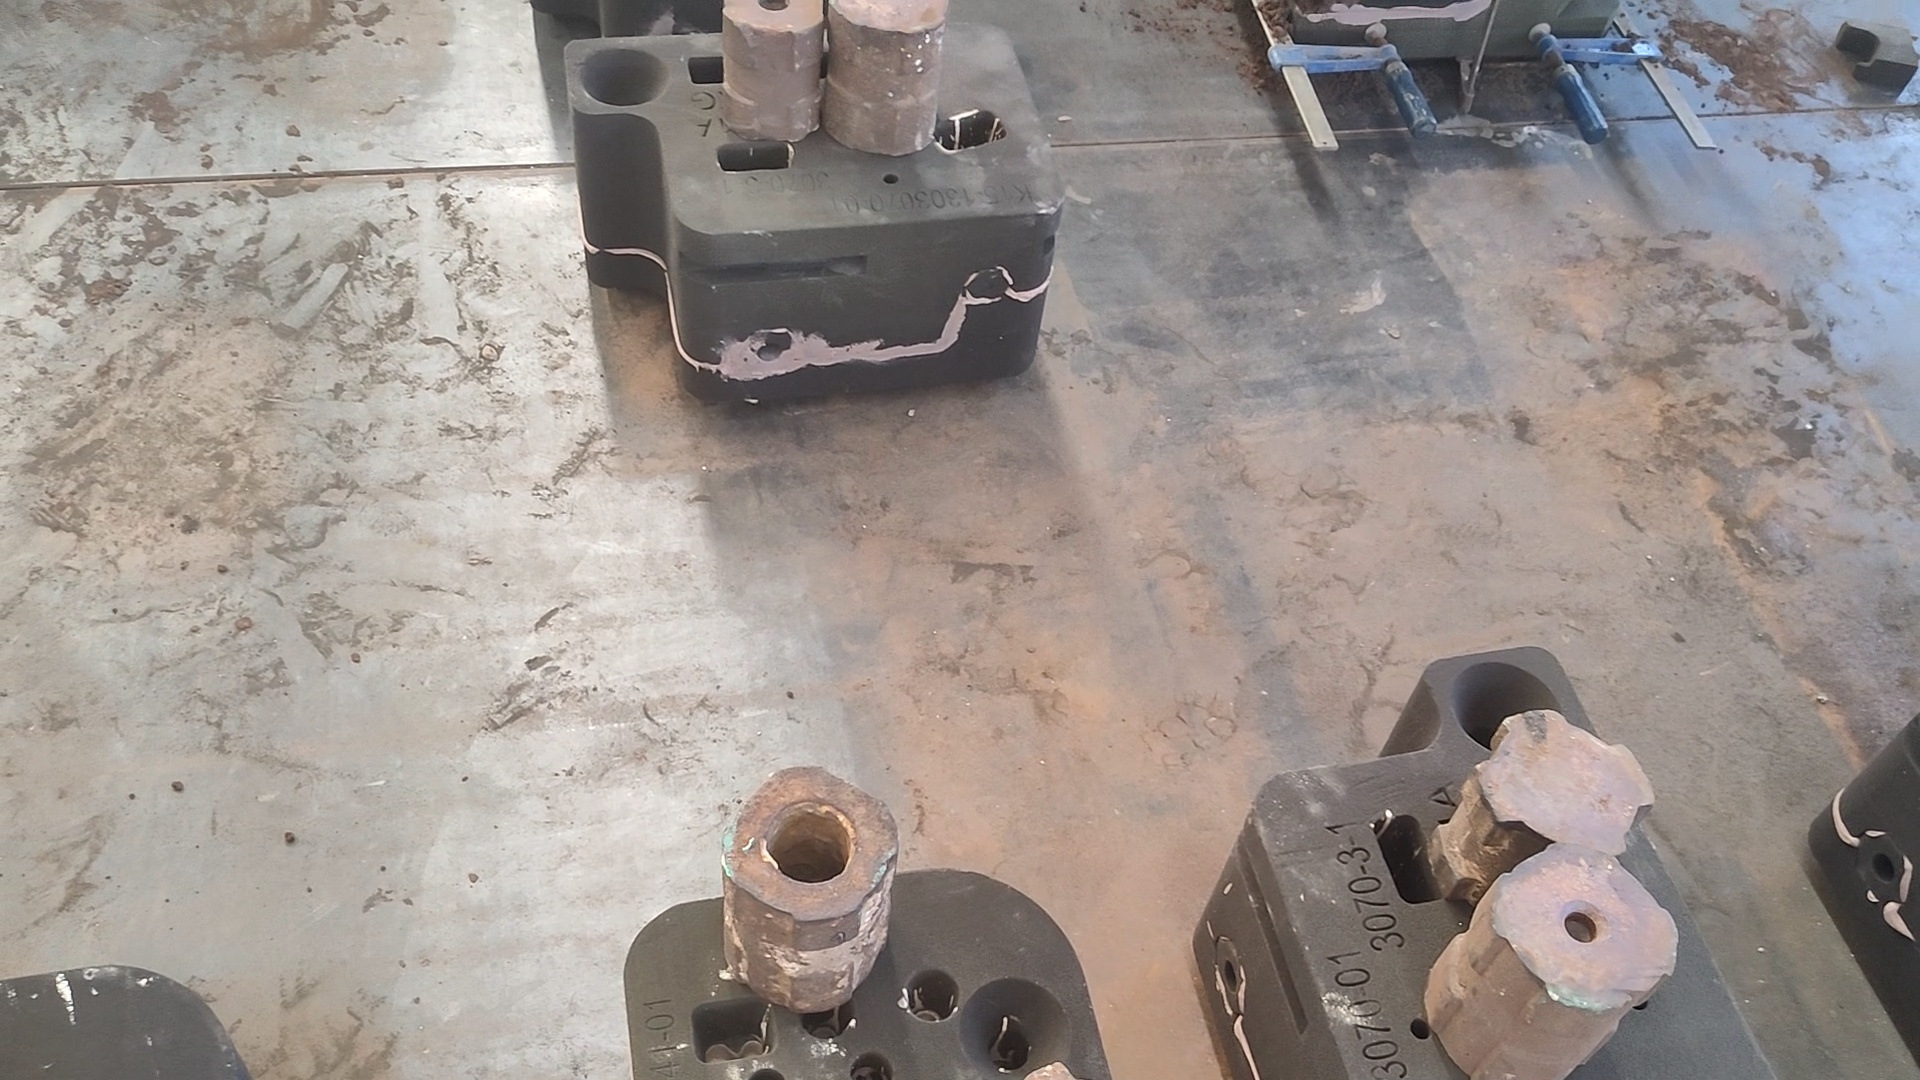pouring hole: (957, 977, 1069, 1080), (1451, 661, 1565, 756), (580, 47, 669, 107)
